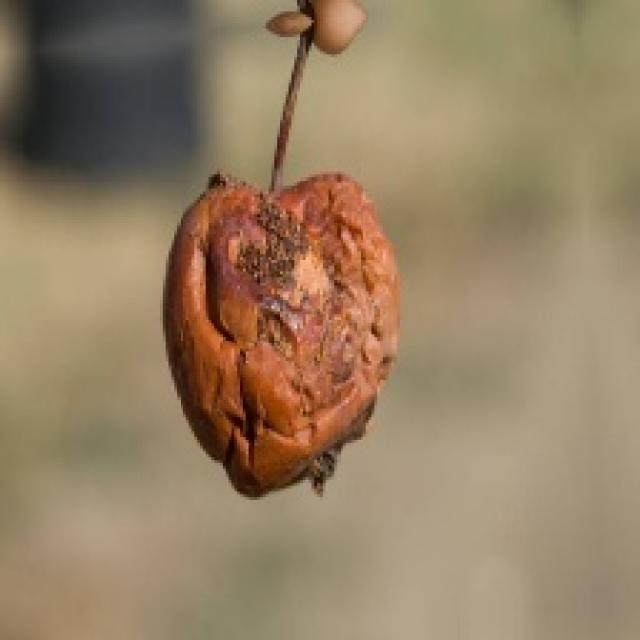rotten_apple: (164, 172, 393, 489)
